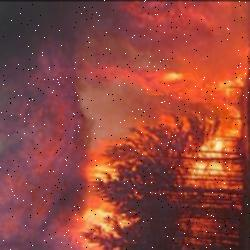fire: (68, 57, 250, 250)
